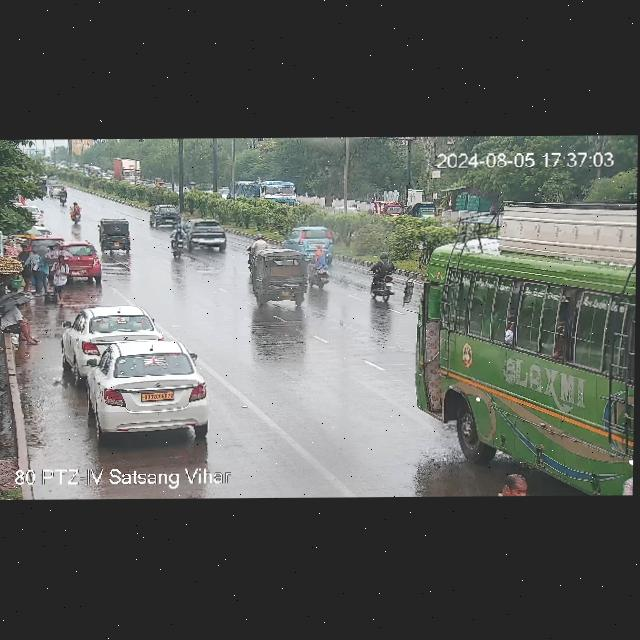bus: (413, 195, 637, 402)
car: (87, 339, 212, 436), (64, 305, 156, 367), (251, 252, 311, 308), (280, 222, 337, 263), (59, 243, 103, 282), (180, 217, 229, 252), (99, 218, 136, 252), (148, 204, 183, 227)
motorcycle: (363, 254, 396, 302), (310, 250, 336, 289), (168, 225, 191, 259), (248, 237, 274, 263), (67, 201, 85, 222), (58, 185, 70, 206)
person: (0, 300, 42, 348), (45, 251, 71, 306), (32, 242, 50, 299), (16, 243, 32, 292)
truck: (229, 180, 303, 204), (112, 157, 143, 185)
